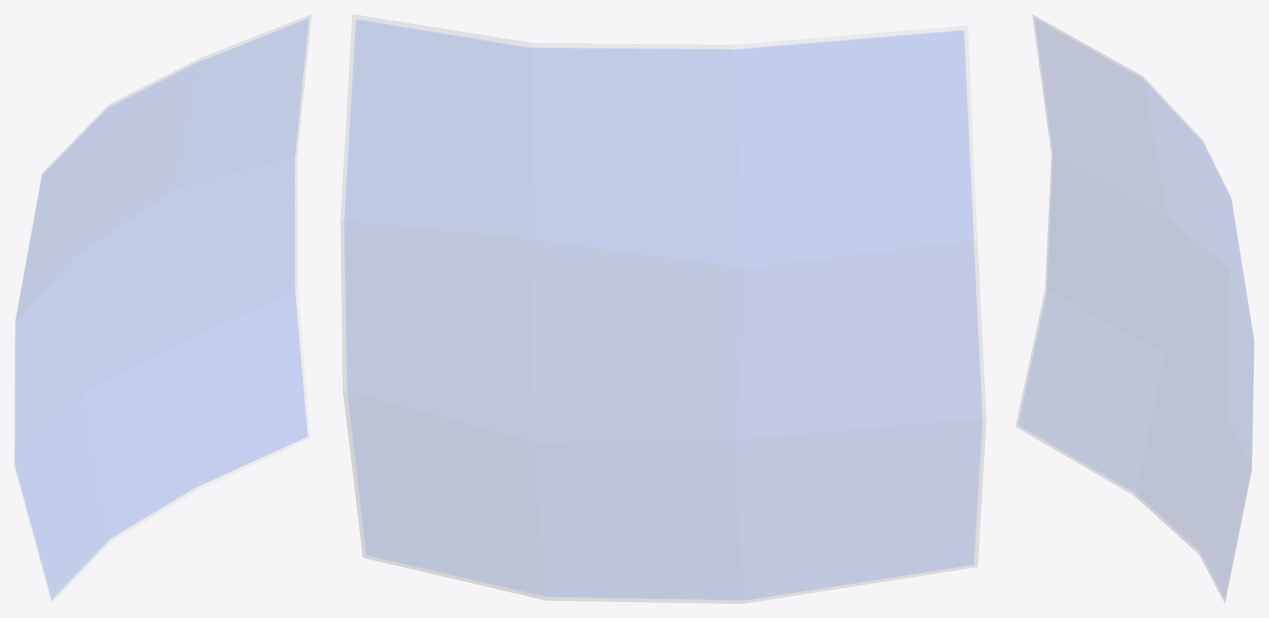
Rendered from pano_02_highLighters_1.glb.
3 views of the same model, side by side, from view 1: azimuth 30°, elevation 25°; view 2: azimuth 150°, elevation 25°; view 3: azimuth 270°, elevation 25° (orthographic). The views are drawn at different scales.
Visible parts, largest first — view 1: pano_02_plane_01; view 2: pano_02_plane_01; view 3: pano_02_plane_01.
Boxes of the visible parts, x1,y1,x2,y2 form: pano_02_plane_01: (14,14,311,602); pano_02_plane_01: (340,14,986,603); pano_02_plane_01: (1016,14,1254,602).
Size of the model in its own units: 318 by 339 by 172.
1 material, 1 textured.
